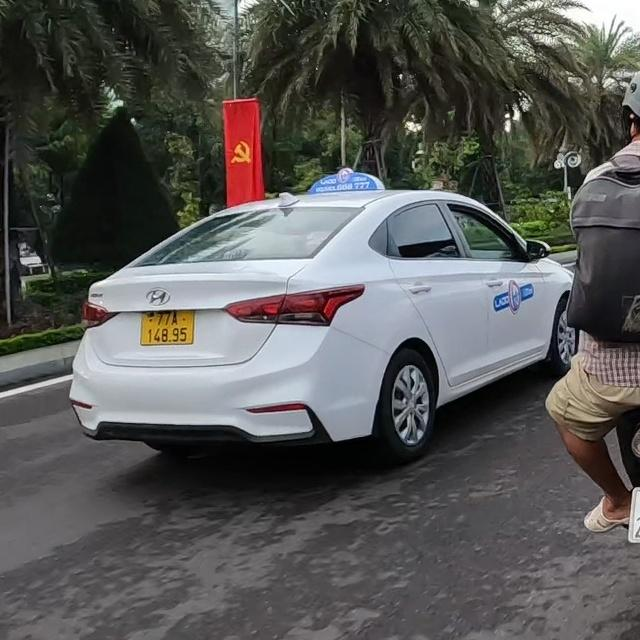license-plate: (140, 310, 194, 346)
